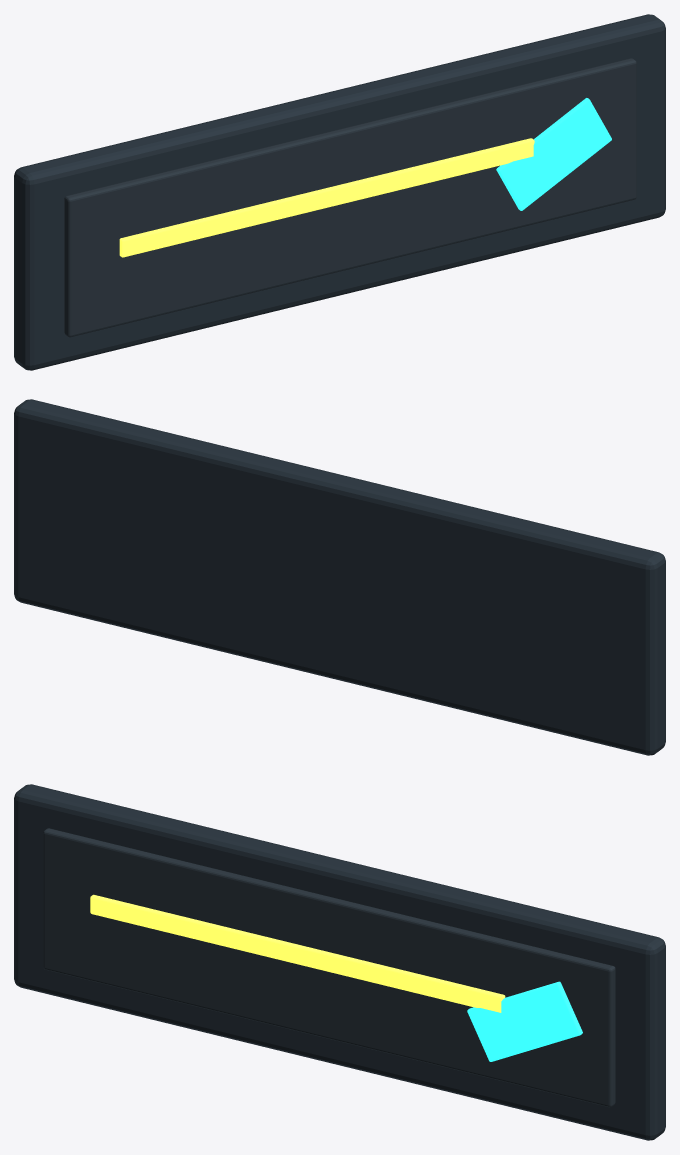
File: route-sign.glb
The picture shows the model from 3 angles, top to bottom: view 1: azimuth 30°, elevation 25°; view 2: azimuth 150°, elevation 25°; view 3: azimuth 330°, elevation 25°; orthographic projection.
Parts seen in each view (by area): view 1: route_sign_surface_01, route_sign_surface_00, route_sign_surface_02, route_sign_surface_03; view 2: route_sign_surface_00; view 3: route_sign_surface_01, route_sign_surface_00, route_sign_surface_02, route_sign_surface_03.
Boxes of the visible parts, left/top/right/bottom form: route_sign_surface_01: left=64, top=58, right=636, bottom=337; route_sign_surface_00: left=14, top=14, right=665, bottom=370; route_sign_surface_02: left=119, top=138, right=534, bottom=257; route_sign_surface_03: left=496, top=98, right=611, bottom=210; route_sign_surface_00: left=14, top=399, right=665, bottom=755; route_sign_surface_01: left=43, top=828, right=615, bottom=1107; route_sign_surface_00: left=14, top=784, right=665, bottom=1140; route_sign_surface_02: left=90, top=894, right=505, bottom=1012; route_sign_surface_03: left=467, top=981, right=582, bottom=1061.
Bounding box in the file's own units: 2.8 × 0.8201 × 0.1825.
